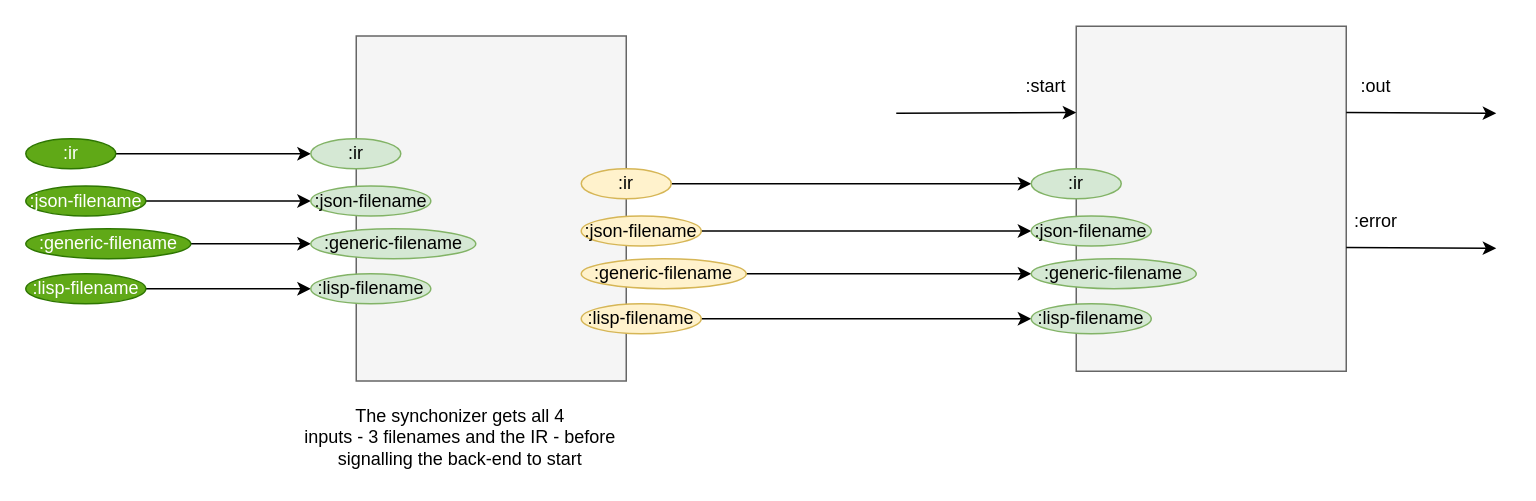
Some shapes in this 1536 by 501 pixel diagram are drawn without their labels. The shapes that lost their labels are listed below. From the top down, each one's box as (x1, y1, x2, y2) in pixels, then its label:
(355, 34, 626, 381): synchronizer
(1075, 25, 1346, 371): back-end-parser
